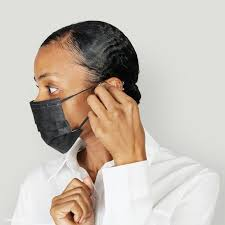with-mask: (26, 26, 153, 153)
